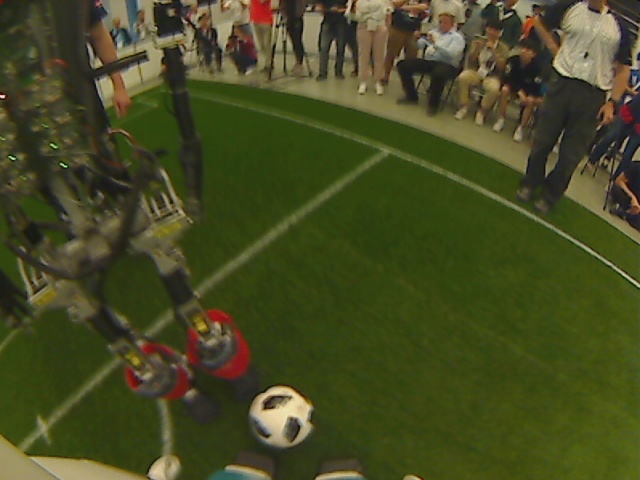ball: (248, 385, 316, 451)
